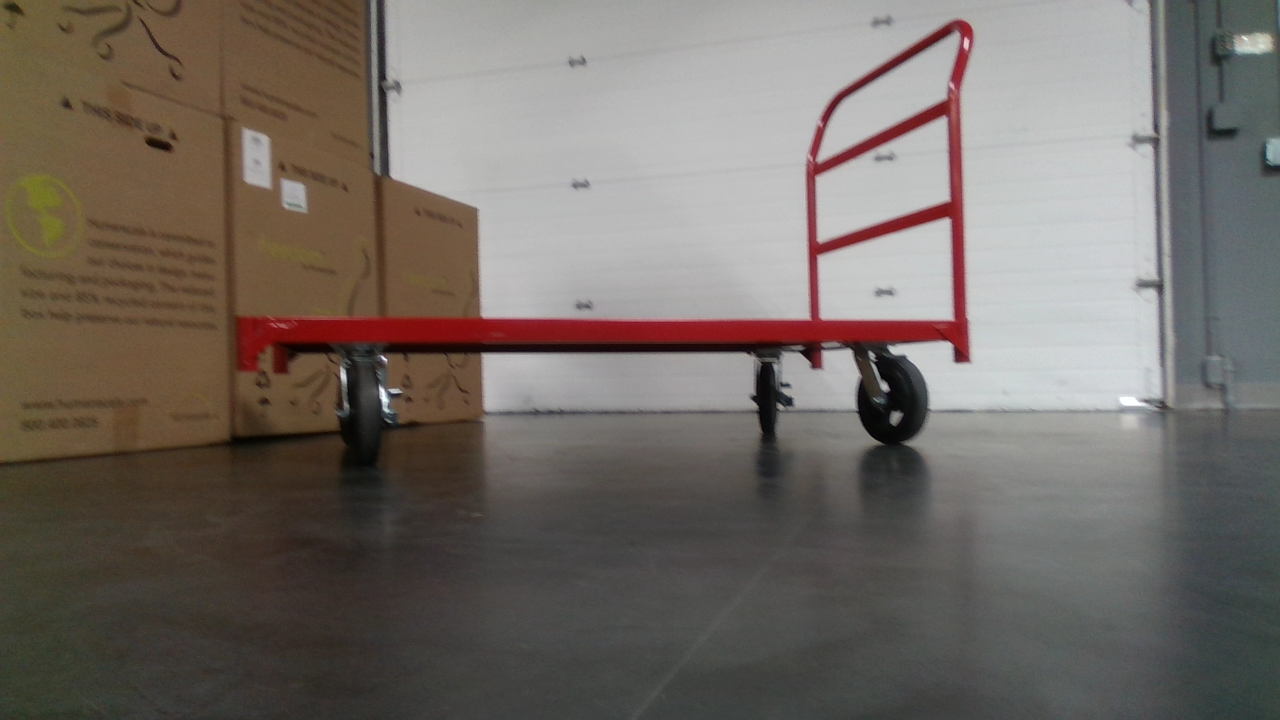Dolly: (228, 15, 996, 471)
Wheel: (315, 360, 404, 466), (850, 350, 937, 448), (740, 349, 797, 450)
